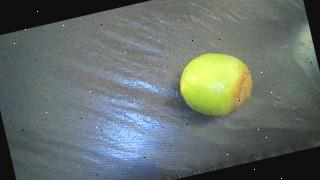DESECHO: (174, 45, 258, 123)
